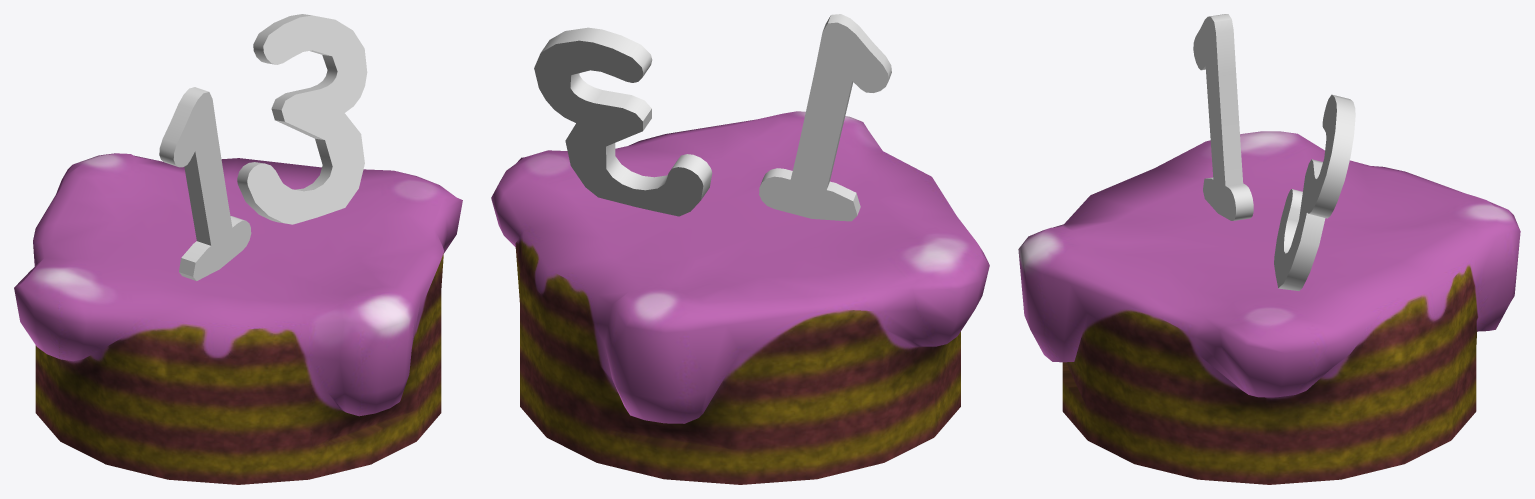
The model's file is Torte_mit_13.FBX.
3 views of the same model, side by side, from view 1: azimuth 30°, elevation 25°; view 2: azimuth 150°, elevation 25°; view 3: azimuth 270°, elevation 25° (orthographic). The views are drawn at different scales.
Visible parts, largest first — view 1: Cake, DREI, EINS; view 2: Cake, DREI, EINS; view 3: Cake, DREI, EINS.
Boxes of the visible parts, left/top/right/bottom form: Cake: left=14, top=153, right=462, bottom=484; DREI: left=237, top=14, right=367, bottom=224; EINS: left=159, top=87, right=251, bottom=280; Cake: left=491, top=111, right=989, bottom=484; DREI: left=534, top=27, right=712, bottom=216; EINS: left=759, top=14, right=891, bottom=221; Cake: left=1018, top=131, right=1520, bottom=484; DREI: left=1274, top=94, right=1355, bottom=290; EINS: left=1193, top=14, right=1253, bottom=220.
Bounding box in the file's own units: 76 × 76.03 × 58.08.
